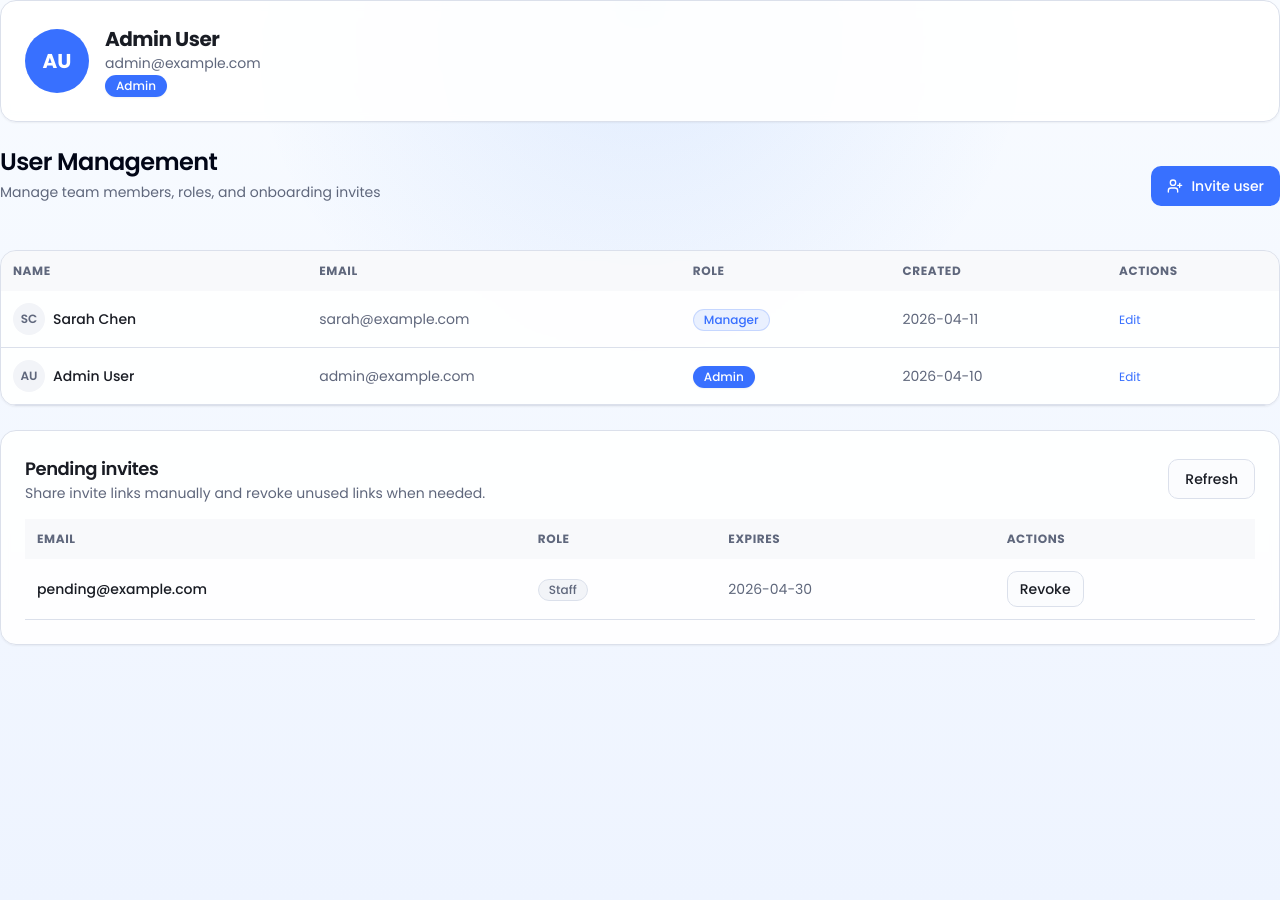
Test: UsersPage › disables role changes when editing your own user
The image size is (1280, 900).
Click the button "Edit" next to "2026-04-10": click(1130, 377) [1119,369,1141,385]
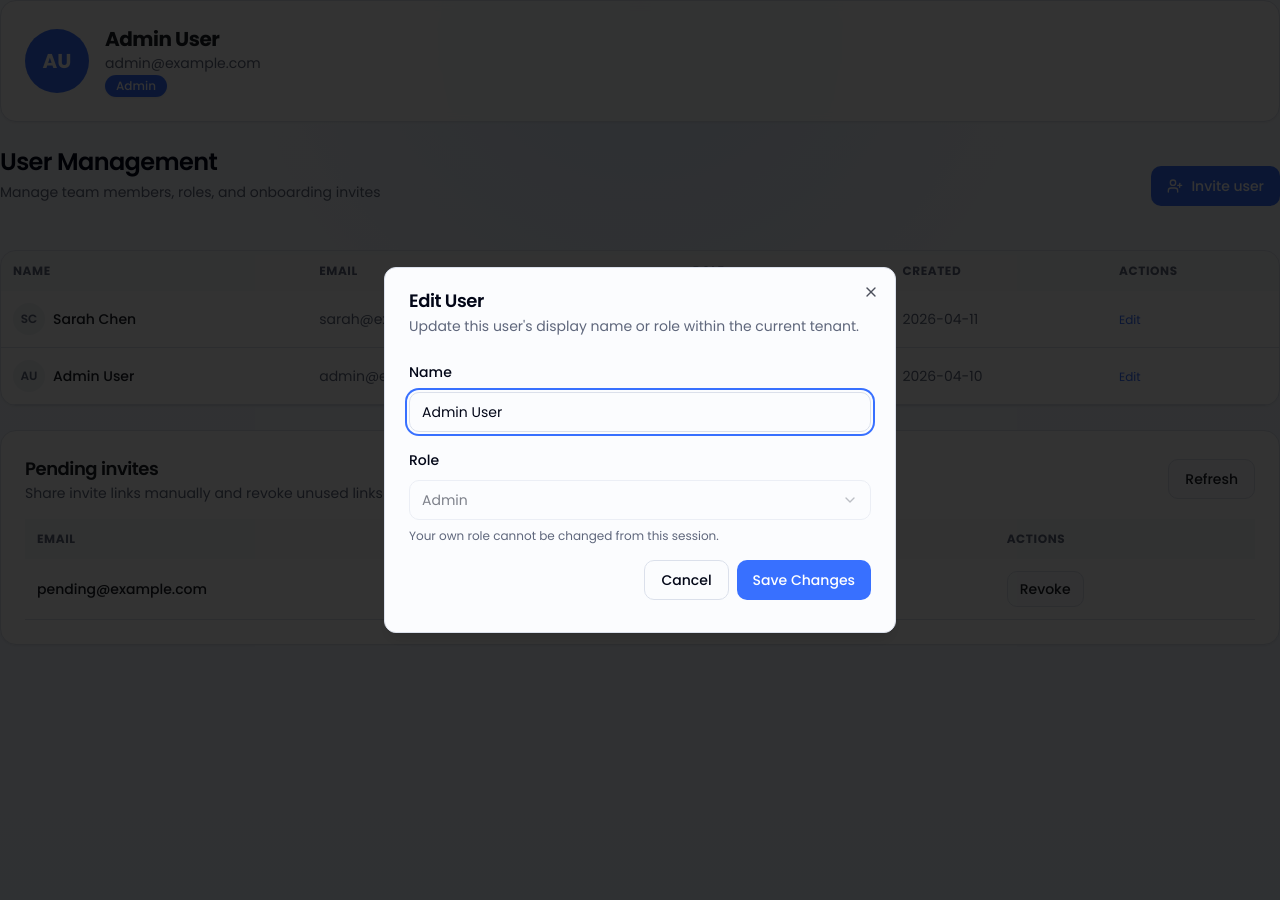
Check: the text "Your own role cannot be changed from this session." is shown, box [409,527,719,544]
Check: the dropdown is disabled, box [409,480,871,520]
